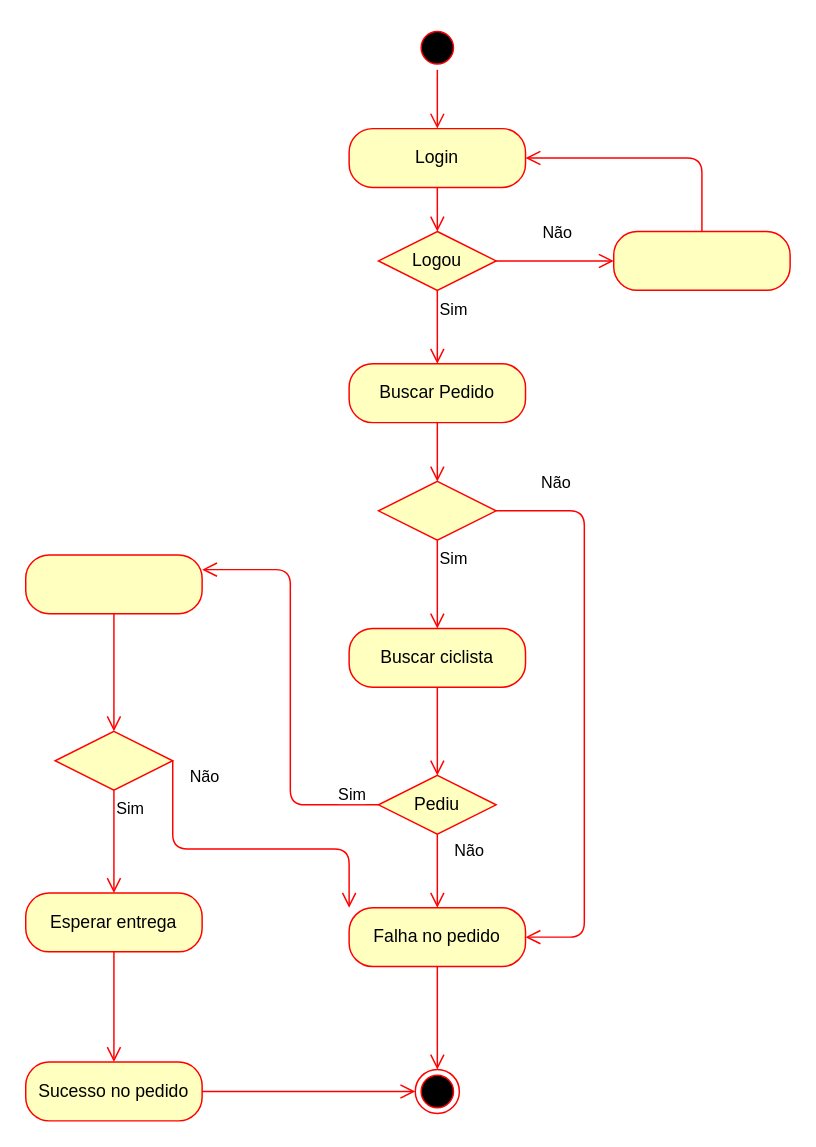
Some shapes in this 816 by 1147 pixel diagram are drawn without their labels. The shapes that lost their labels are listed below. From the top down, each one's centre as x and y in pixels, then its label:
At [701,260]: "Cadastro App".
At [436,510]: "Encontrou".
At [113,583]: "Realizar Pagamento".
At [113,760]: "Pago".
